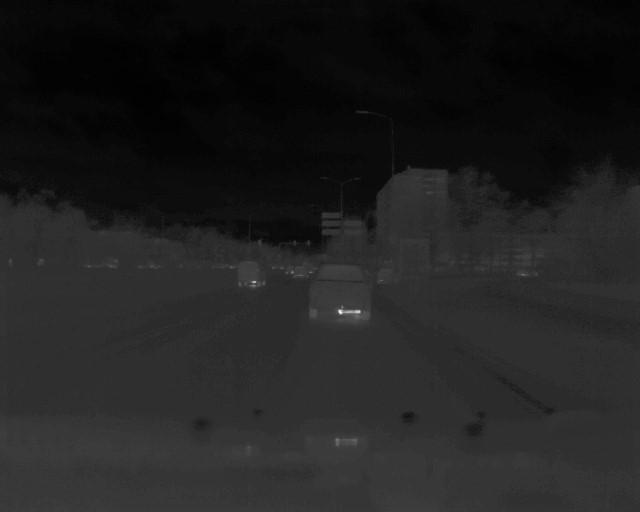car: (307, 261, 374, 327), (237, 260, 269, 294)
